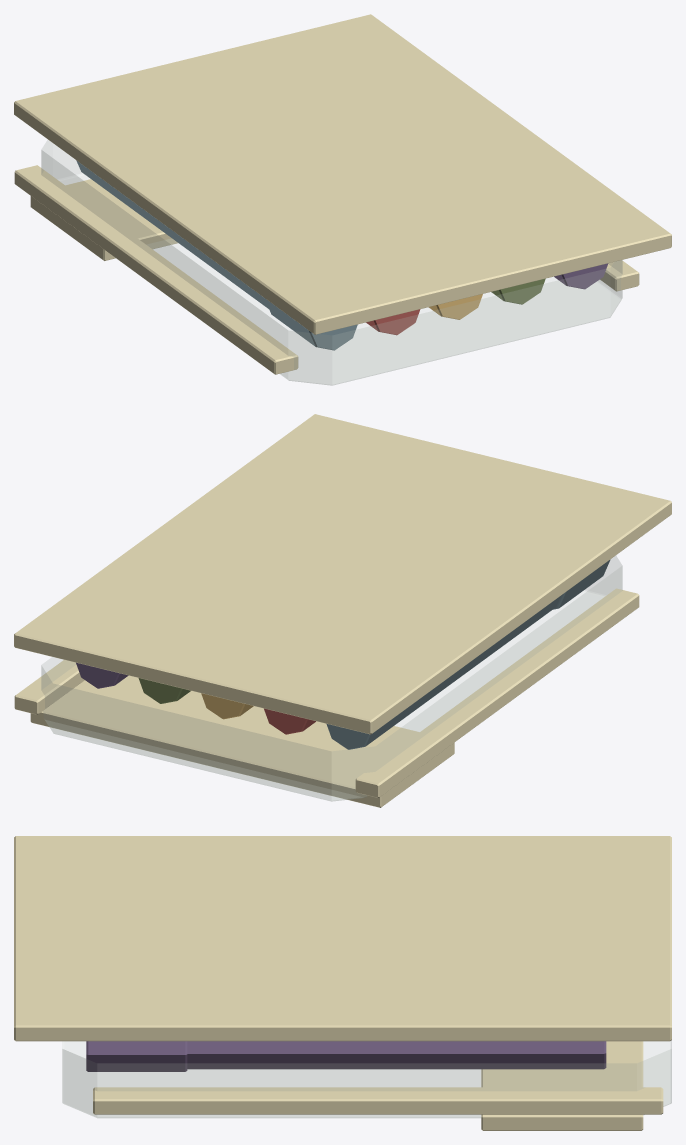
The model's file is markers.glb.
The picture shows the model from 3 angles, top to bottom: view 1: azimuth 30°, elevation 25°; view 2: azimuth 150°, elevation 25°; view 3: azimuth 270°, elevation 25°; orthographic projection. The views are drawn at different scales.
Parts seen in each view (by area): view 1: markers; view 2: markers; view 3: markers.
Part boxes in pixels (box(x1,y1,x2,y2)): markers: box(14, 14, 671, 385); markers: box(14, 414, 671, 807); markers: box(14, 836, 671, 1130).
Size of the model in its own units: 0.105 by 0.0277 by 0.15.
